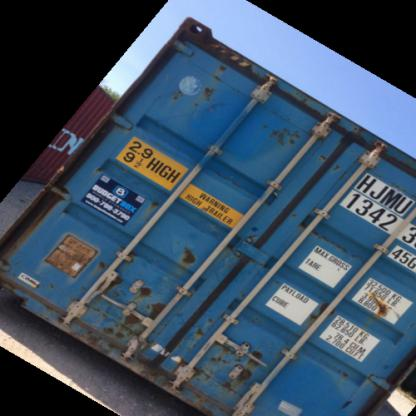Damage: (209, 338, 262, 399), (69, 289, 121, 340), (124, 281, 161, 335), (262, 112, 306, 150), (199, 61, 233, 105), (174, 234, 204, 275), (308, 293, 339, 327), (365, 286, 388, 326), (95, 252, 122, 286), (318, 145, 343, 179), (167, 83, 187, 108), (145, 192, 165, 214)
